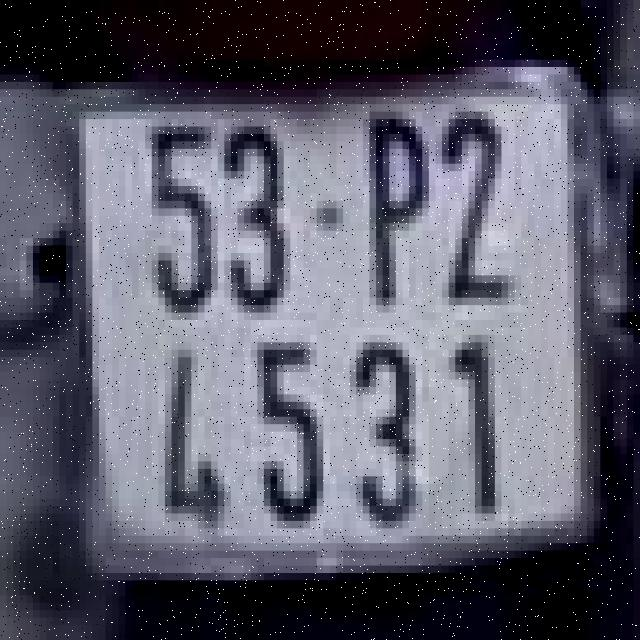1: (435, 323, 528, 524)
2: (432, 85, 525, 324)
3: (347, 328, 432, 544), (221, 104, 294, 328)
4: (145, 331, 251, 540)
5: (135, 108, 221, 324), (250, 328, 336, 544)
P: (343, 86, 429, 316)
